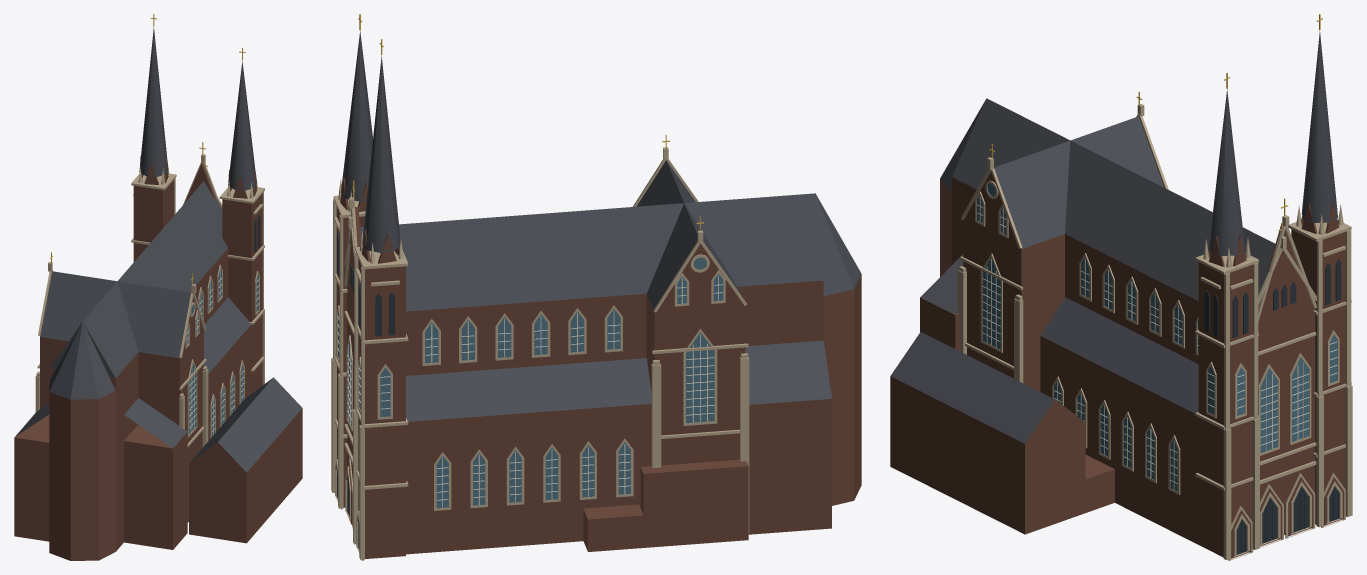
File: krijtberg.glb
3 renders of one model, left to right at view 1: azimuth 30°, elevation 25°; view 2: azimuth 150°, elevation 25°; view 3: azimuth 270°, elevation 25°, orthographic. The views are drawn at different scales.
Parts seen in each view (by area): view 1: krijtberg; view 2: krijtberg; view 3: krijtberg.
Part boxes in pixels (x1=…): krijtberg: x1=14, y1=14, x2=302, y2=560; krijtberg: x1=331, y1=14, x2=861, y2=560; krijtberg: x1=890, y1=14, x2=1352, y2=560.
Size of the model in its own units: 49.21 by 58.2 by 48.52.
